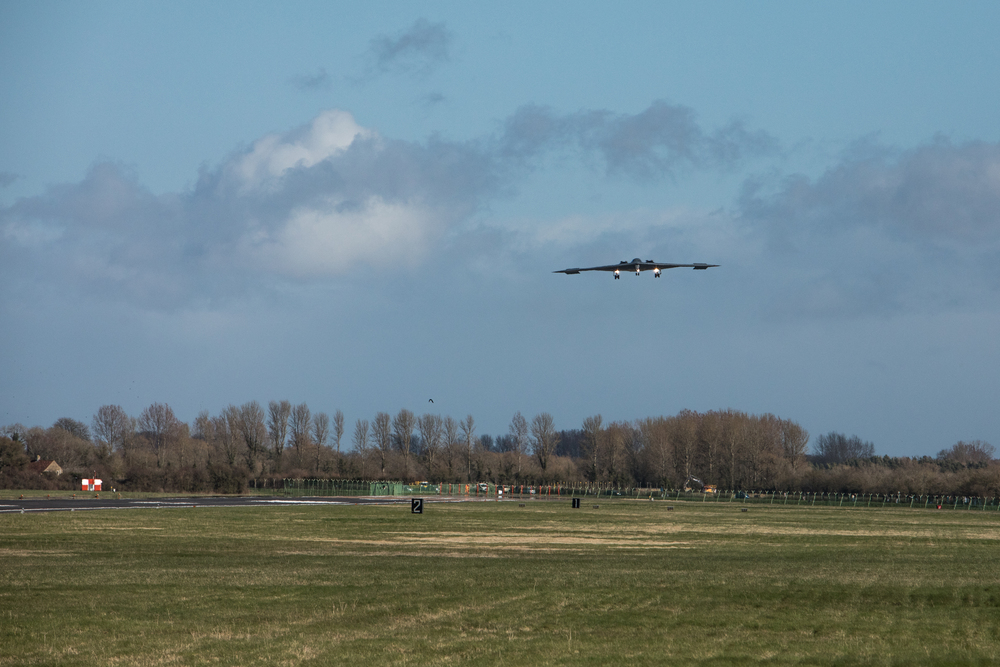B2: (551, 257, 722, 280)
